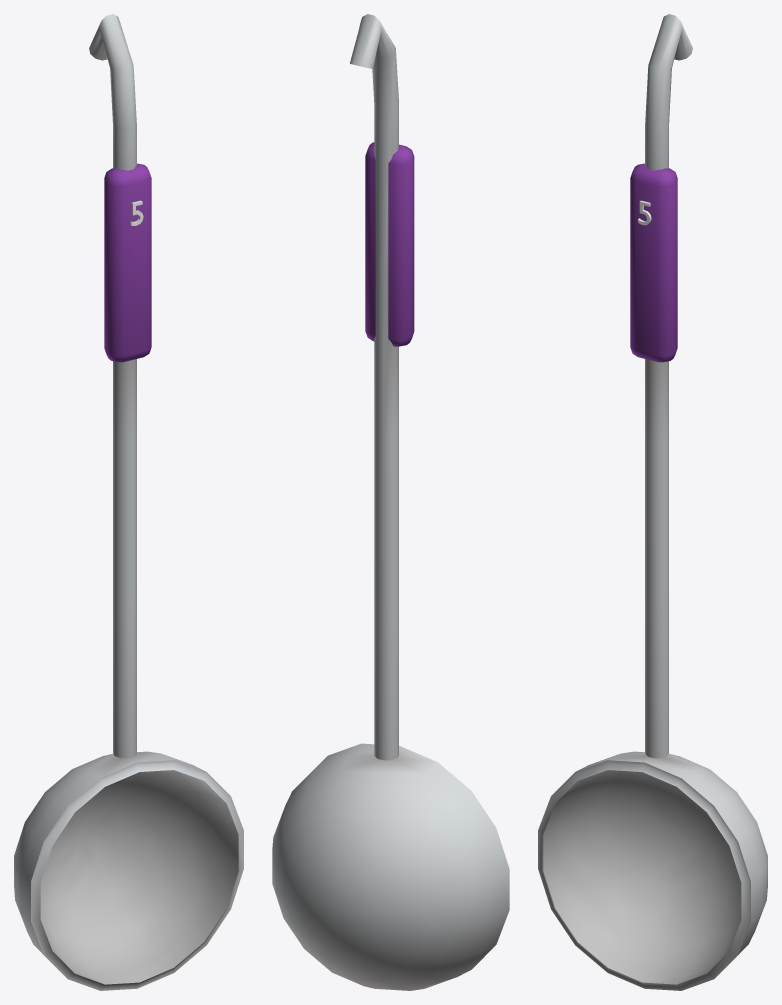
The model's file is fp-ladle-5.gltf.
The picture shows the model from 3 angles, left to right: view 1: azimuth 30°, elevation 25°; view 2: azimuth 150°, elevation 25°; view 3: azimuth 330°, elevation 25°; orthographic projection. The views are drawn at different scales.
Visible parts, largest first — view 1: model; view 2: model; view 3: model.
Part boxes in pixels (x1,y1,x2,y2): model: (14, 14, 243, 990); model: (272, 14, 509, 990); model: (538, 14, 767, 990).
Bounding box in the file's own units: 0.0814 × 0.3485 × 0.0428.
